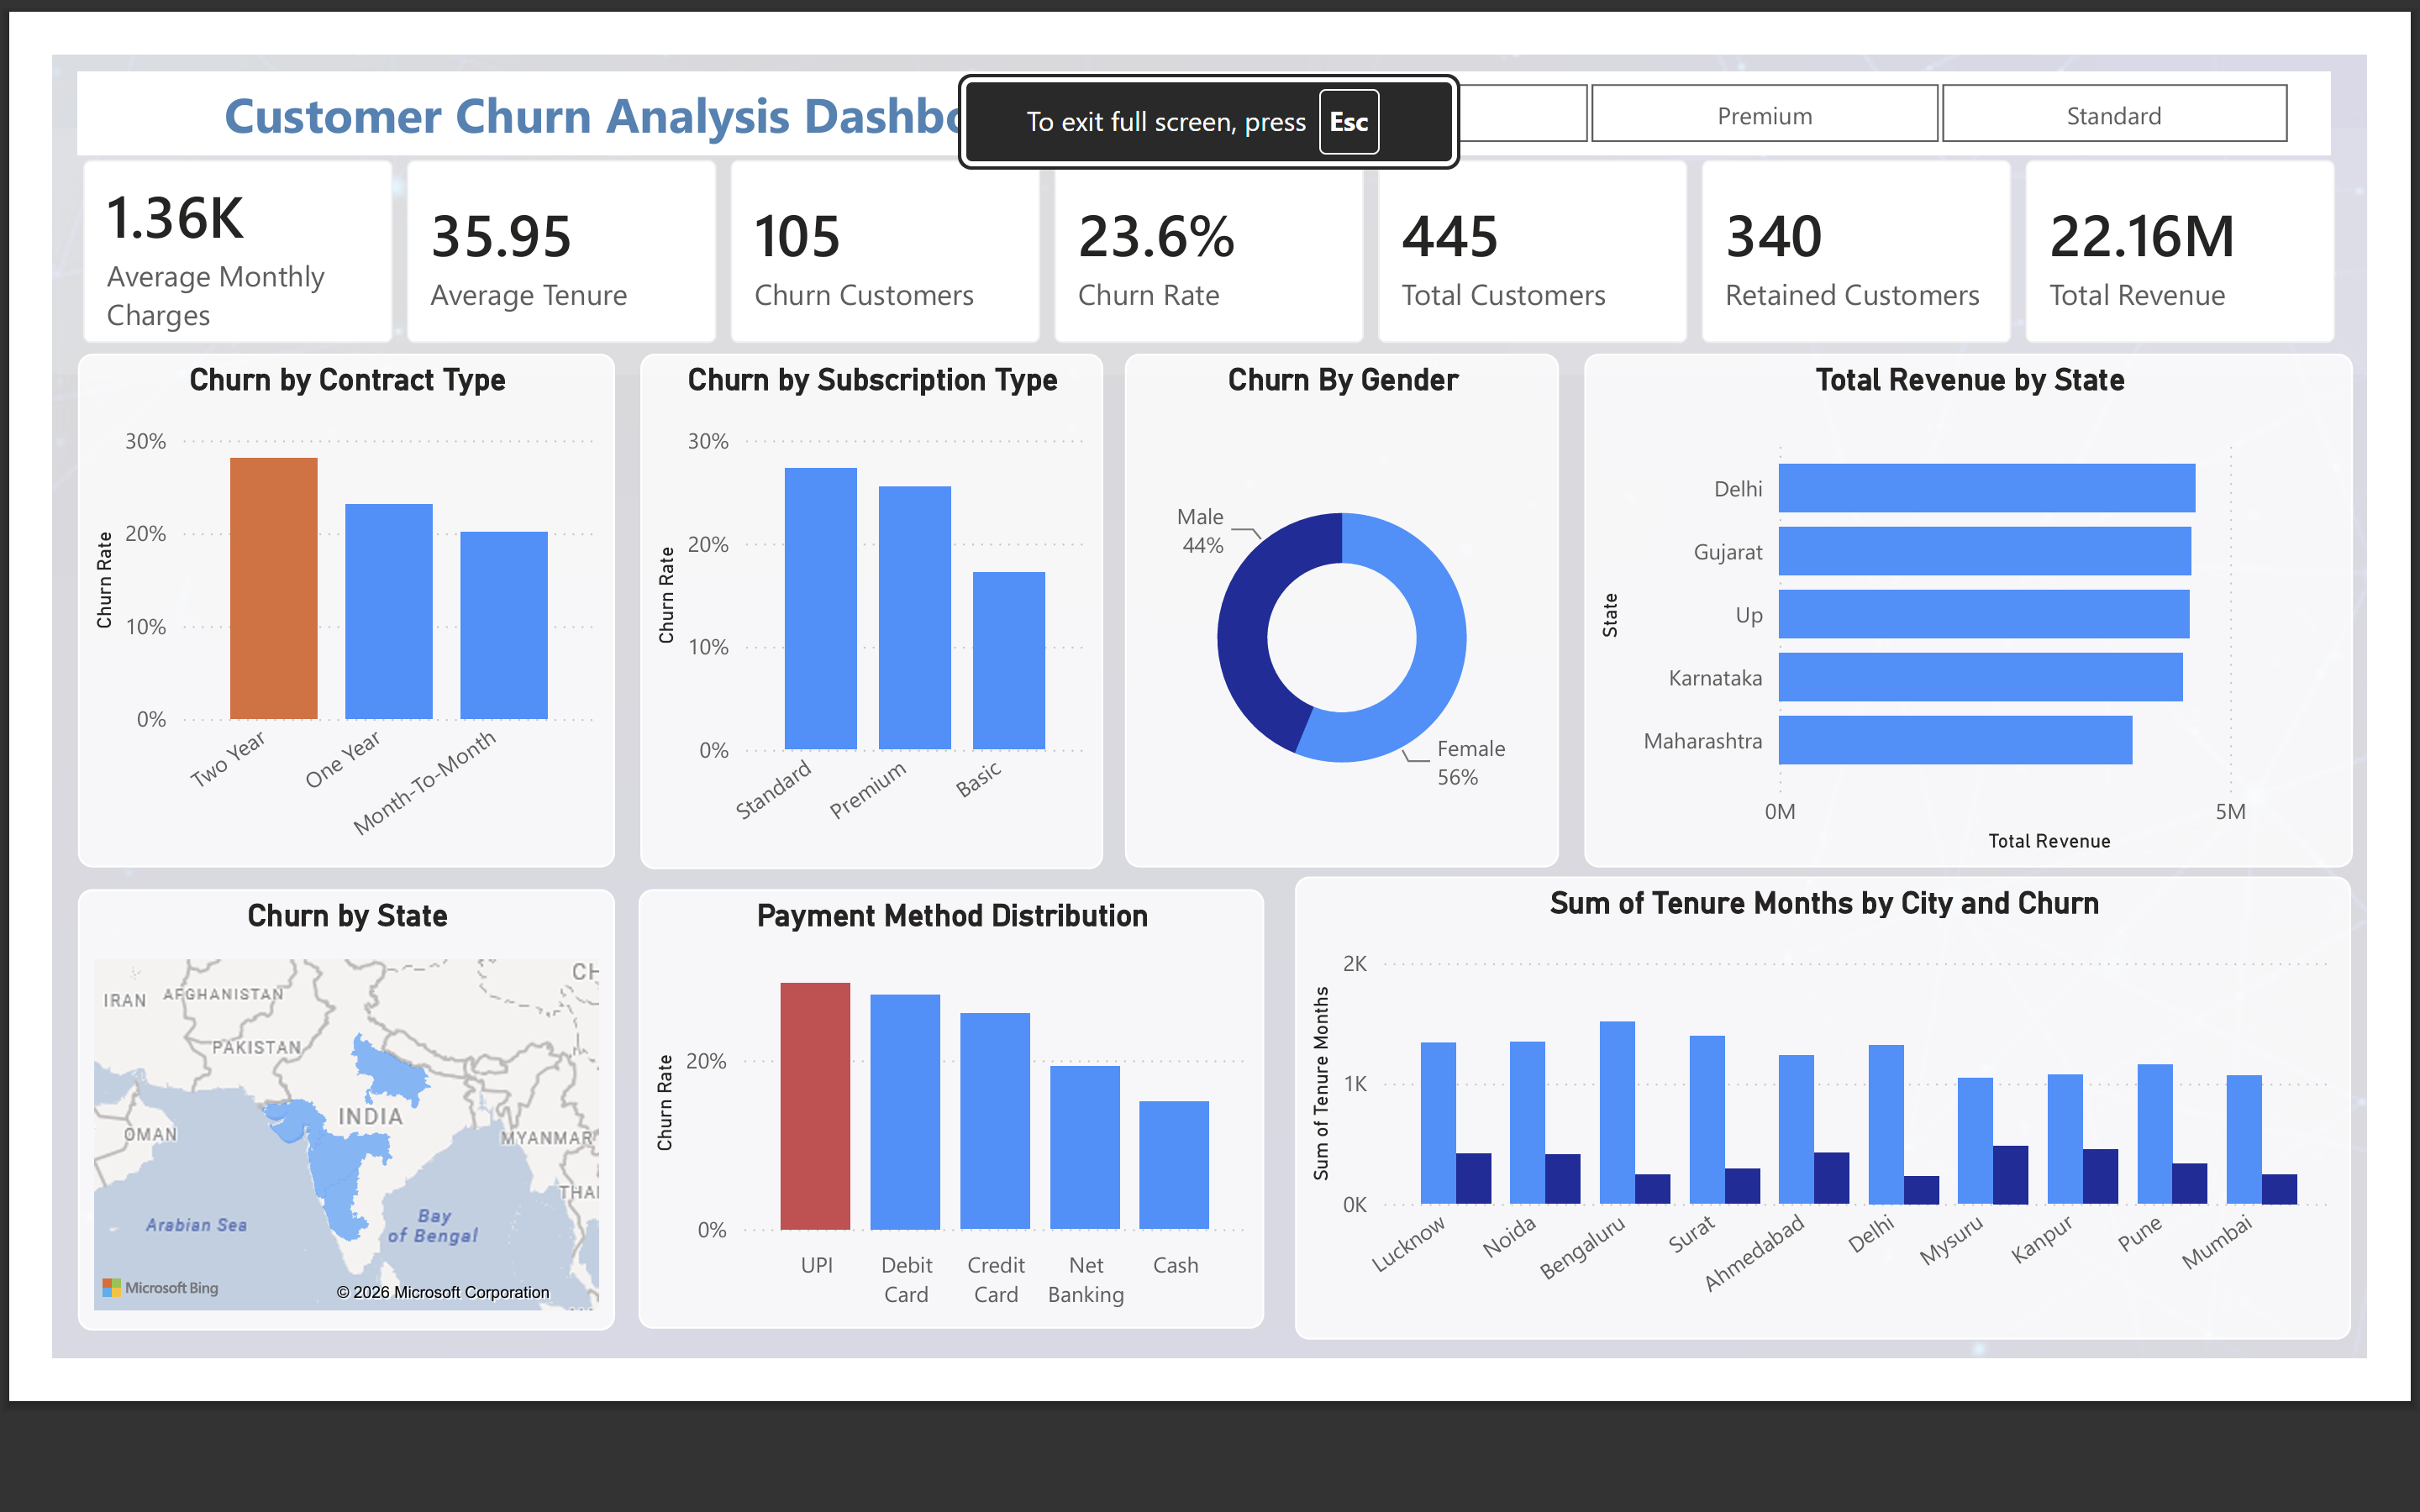

What the dashboard file says about the page in this screenshot:
{"tool":"powerbi","page":{"name":"Page 1","canvas":[1280,720],"ordinal":0},"visuals":[{"type":"cardVisual","fields":{"Data":["Measure Query.Average Monthly Charges","Measure Query.Average Tenure","Measure Query.Churn Customers","Measure Query.Churn Rate","Measure Query.Total Customers","Measure Query.Retained Customers","Measure Query.Total Revenue"]},"box":[0,40.7,1279.5,135.9],"z":0},{"type":"columnChart","title":"Churn by Contract Type ","fields":{"Category":["Clean_churn_Data1.Contract_Type"],"Y":["Measure Query.Churn Rate"]},"box":[13.9,164.8,297.4,284.6],"z":1000},{"type":"columnChart","title":"Churn by Subscription Type ","fields":{"Y":["Measure Query.Churn Rate"],"Category":["Clean_churn_Data1.Subscription_Type"]},"box":[325,165,256.5,285.3],"z":2000},{"type":"filledMap","title":"Churn by State ","fields":{"Category":["Clean_churn_Data1.State"]},"box":[13.9,461.1,297.4,243.9],"z":3000},{"type":"actionButton","box":[21,9,80,32],"z":4000},{"type":"clusteredBarChart","fields":{"Y":["Measure Query.Total Revenue"],"Category":["Clean_churn_Data1.State"]},"box":[847.5,164.9,424.4,283.8],"z":5000},{"type":"donutChart","title":"Churn By Gender","fields":{"Category":["Clean_churn_Data1.Gender"],"Y":["Sum(Clean_churn_Data1.Churn_Flag)"]},"box":[593.4,164.9,239.2,283.8],"z":6000},{"type":"clusteredColumnChart","title":"Payment Method Distribution ","fields":{"Category":["Clean_churn_Data1.Payment_Method"],"Y":["Measure Query.Churn Rate"]},"box":[324.4,460.9,346,243.3],"z":7000},{"type":"textbox","box":[13.9,8.6,1249.6,46],"z":8000},{"type":"clusteredColumnChart","title":"Sum of Tenure Months by City and Churn","fields":{"Category":["Clean_churn_Data1.City"],"Y":["Sum(Clean_churn_Data1.Tenure_Months)"],"Series":["Clean_churn_Data1.Churn"]},"box":[686.6,454.1,583.9,255.5],"z":9000}]}

Visuals, with their boxes on the page's 1280x720 design canvas (x1, y1, x2, y2). These are canvas units, not pixel positions in the 2420x1512 screenshot, which may show the page scaled, cropped or inside an application window:
cardVisual - Measure Query.Average Monthly Charges x Measure Query.Average Tenure: locate(0, 41, 1280, 177)
"Churn by Contract Type " columnChart: locate(14, 165, 311, 449)
"Churn by Subscription Type " columnChart: locate(325, 165, 582, 450)
"Churn by State " filledMap: locate(14, 461, 311, 705)
actionButton: locate(21, 9, 101, 41)
clusteredBarChart - Measure Query.Total Revenue x Clean_churn_Data1.State: locate(848, 165, 1272, 449)
"Churn By Gender" donutChart: locate(593, 165, 833, 449)
"Payment Method Distribution " clusteredColumnChart: locate(324, 461, 670, 704)
textbox: locate(14, 9, 1264, 55)
"Sum of Tenure Months by City and Churn" clusteredColumnChart: locate(687, 454, 1270, 710)
